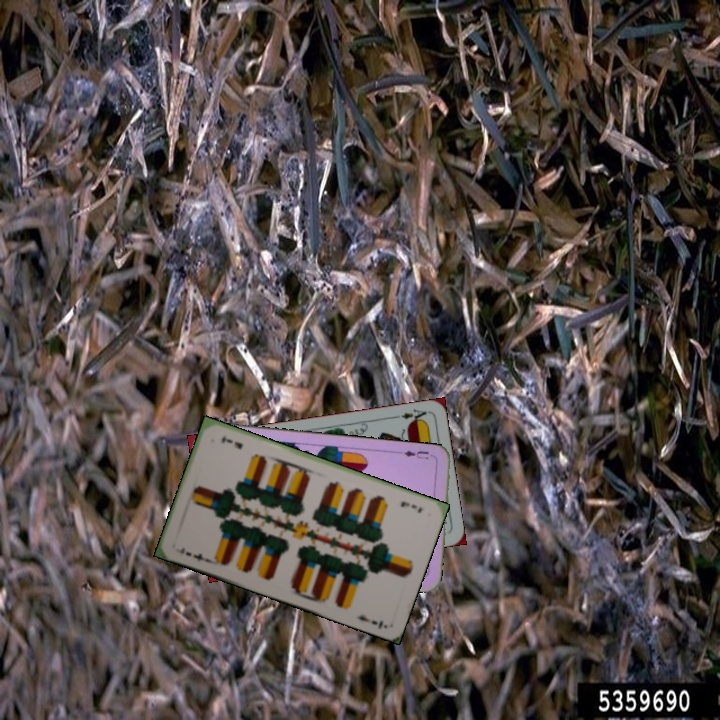E7: (176, 543, 212, 565), (397, 497, 425, 515)
EA: (390, 405, 429, 426)
EU: (400, 447, 437, 462)
